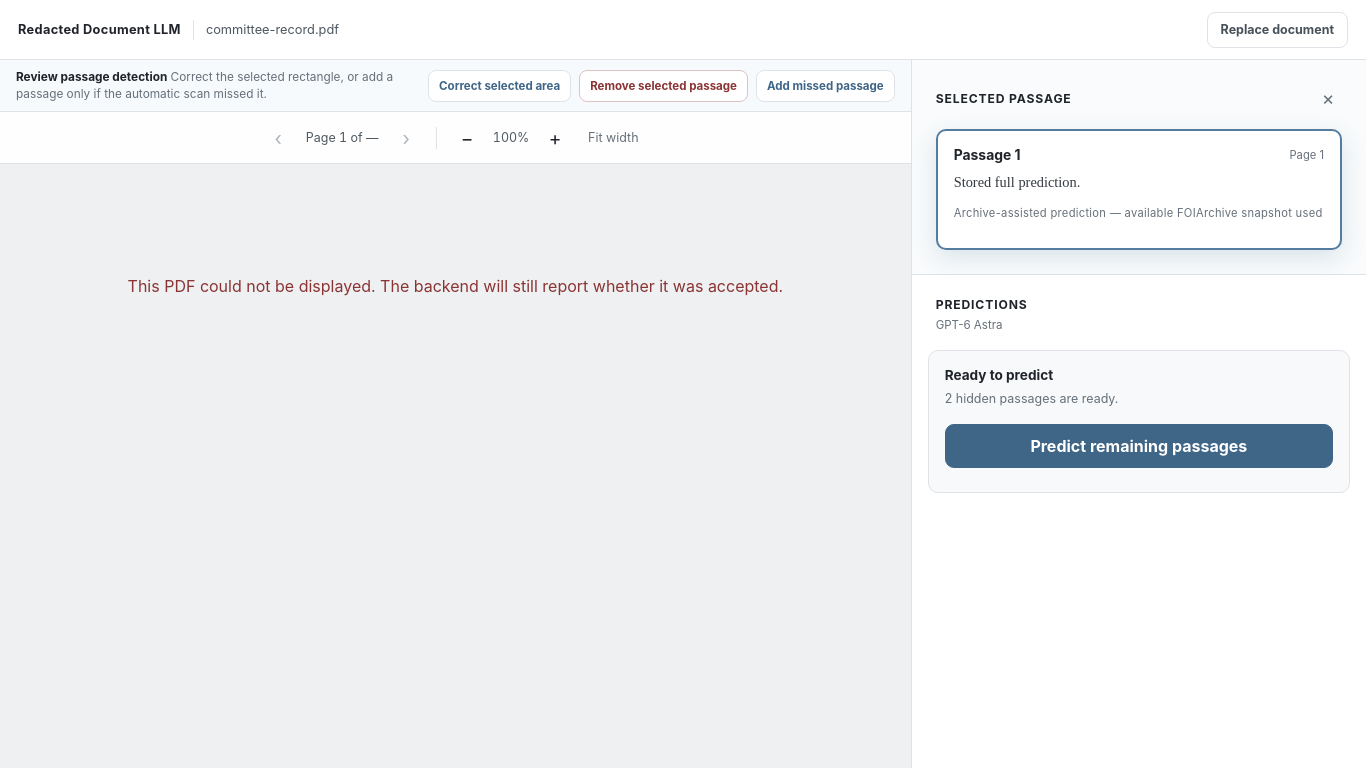
DocumentWorkspace › keeps controls locked when a second full-document stream starts
This screenshot has width=1366, height=768.
Expected: the text "Stored full prediction." is shown, [954,174,1080,190]
Click the button "Predict remaining passages". click: click(1139, 446)
box: [945,424,1333,468]
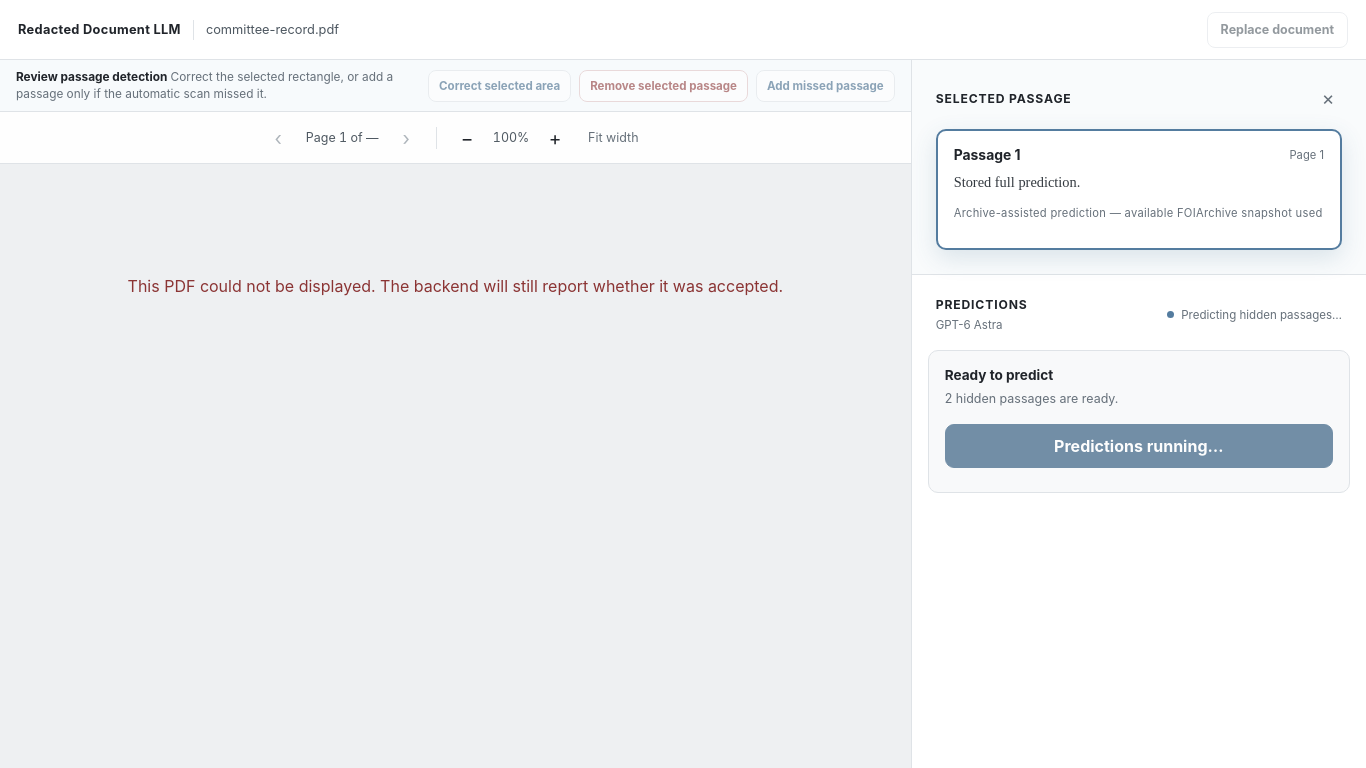
Expected: the button "Predictions running…" is disabled, [945,424,1333,468]
Expected: the button "Correct selected area" is disabled, [428,70,571,102]
Expected: the button "Remove selected passage" is disabled, [579,70,748,102]
